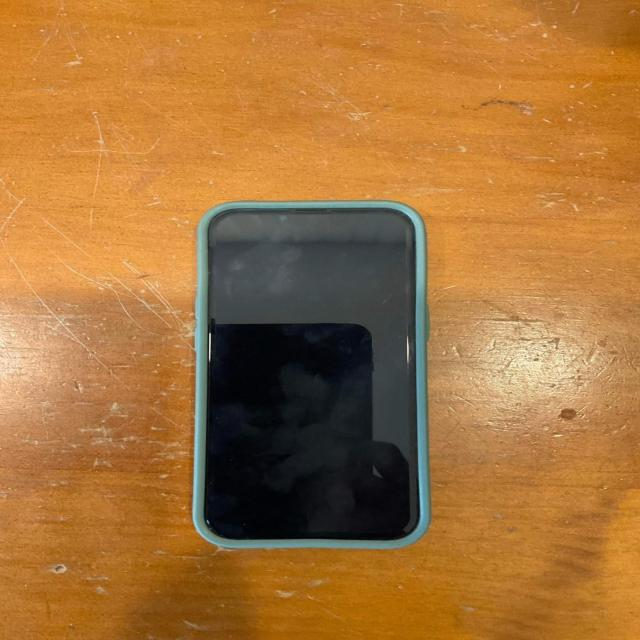Smartphone: (182, 202, 426, 551)
